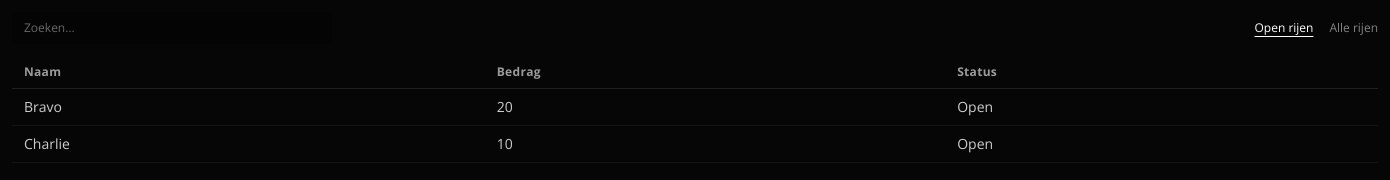
Test case: DataTable › quickFilter › combines the quick filter with the global search
Type "Bravo" into the field with test id "data-table-search" at [172, 28], box [12,12,332,44]
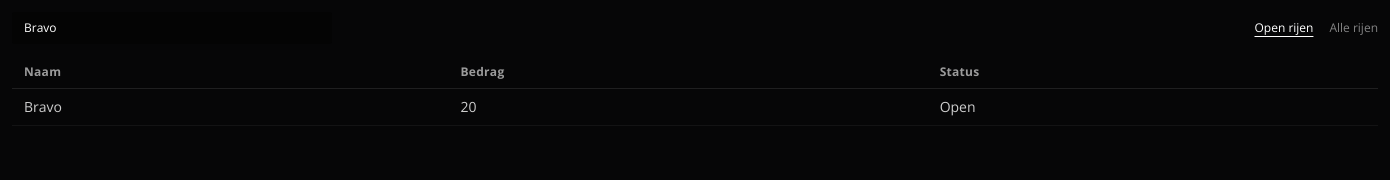
Check: the row with test id "data-table-row-a" is shown, box [12,88,1378,126]
Check: the row with test id "data-table-row-c" is gone
